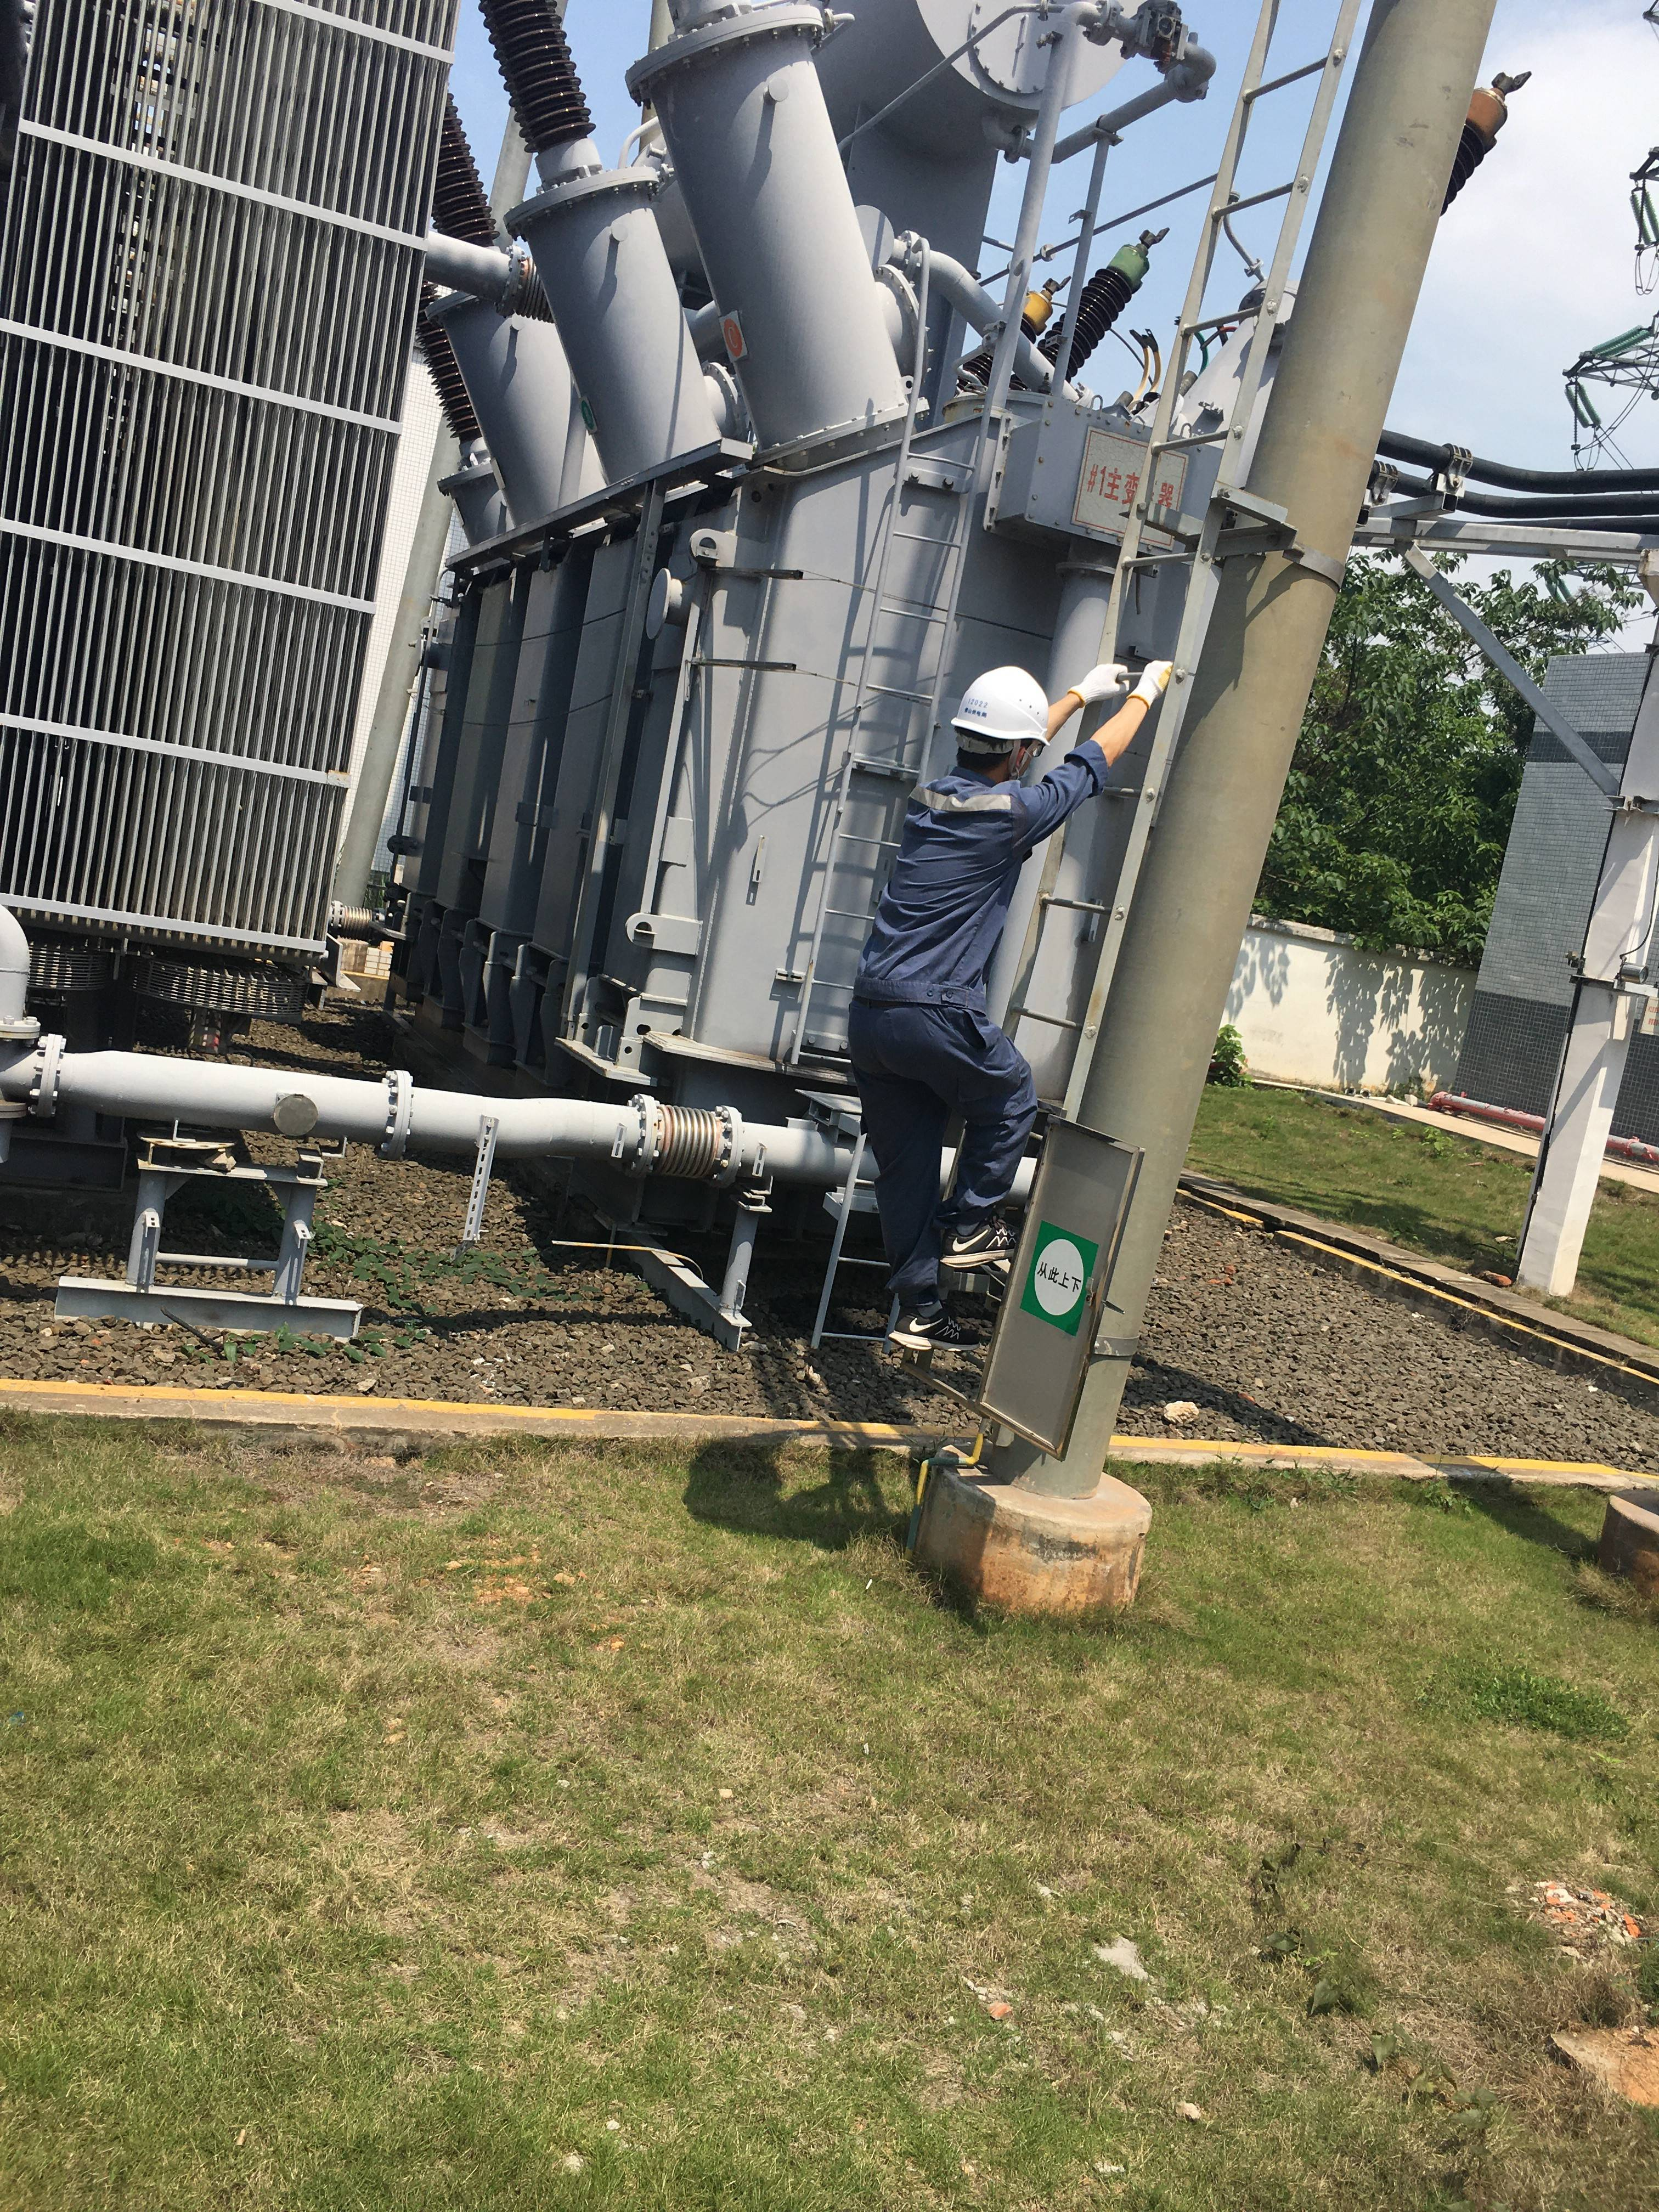downsuit: (847, 1021, 1042, 1292)
upsuit: (835, 768, 1101, 1010)
wrongtop: (1032, 662, 1168, 787)
